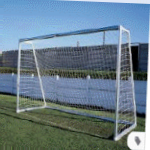goals: (15, 22, 137, 141)
